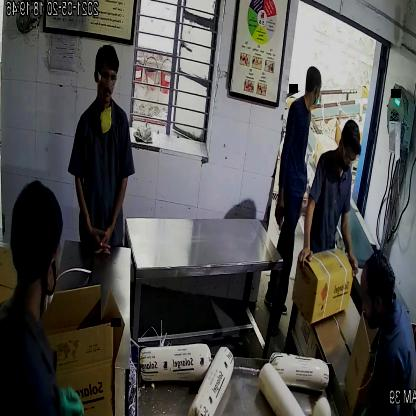goggles: (340, 144, 360, 168), (96, 71, 118, 89)
